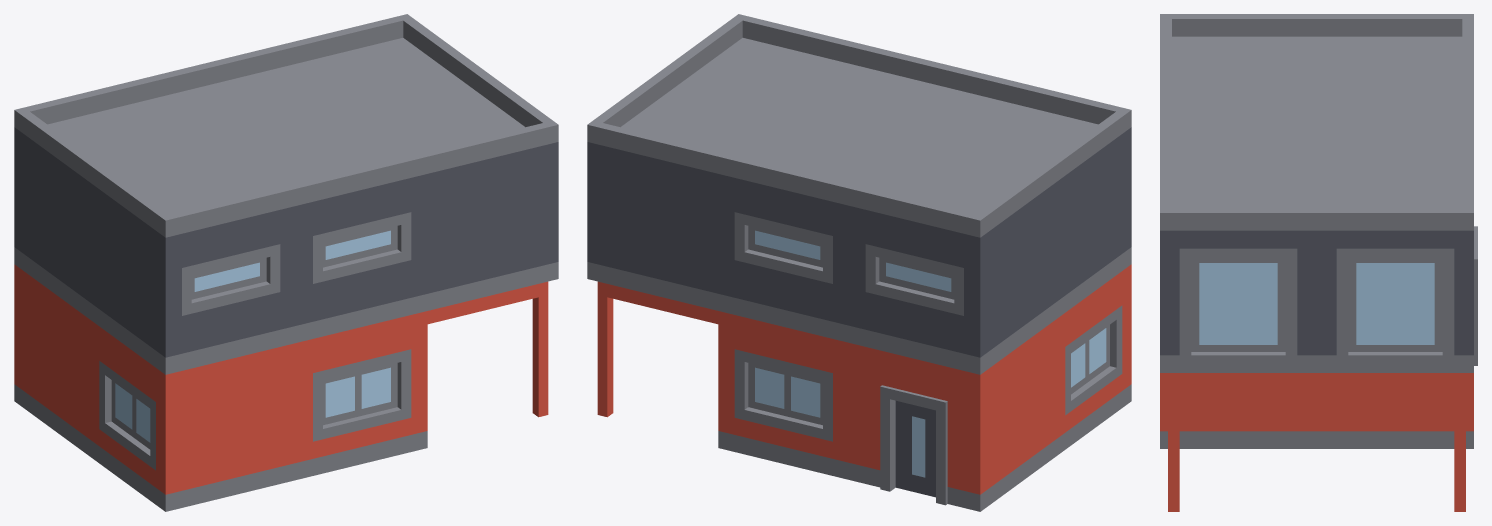
Rendered from house_type20.dae.
The picture shows the model from 3 angles, left to right: view 1: azimuth 30°, elevation 25°; view 2: azimuth 150°, elevation 25°; view 3: azimuth 270°, elevation 25°; orthographic projection. The views are drawn at different scales.
Parts seen in each view (by area): view 1: house_type20; view 2: house_type20; view 3: house_type20.
Part boxes in pixels (x1,y1,x2,y2): house_type20: [14, 14, 558, 511]; house_type20: [587, 14, 1131, 511]; house_type20: [1160, 14, 1477, 511].
Size of the model in its own units: 1.2 by 0.85 by 0.81.
